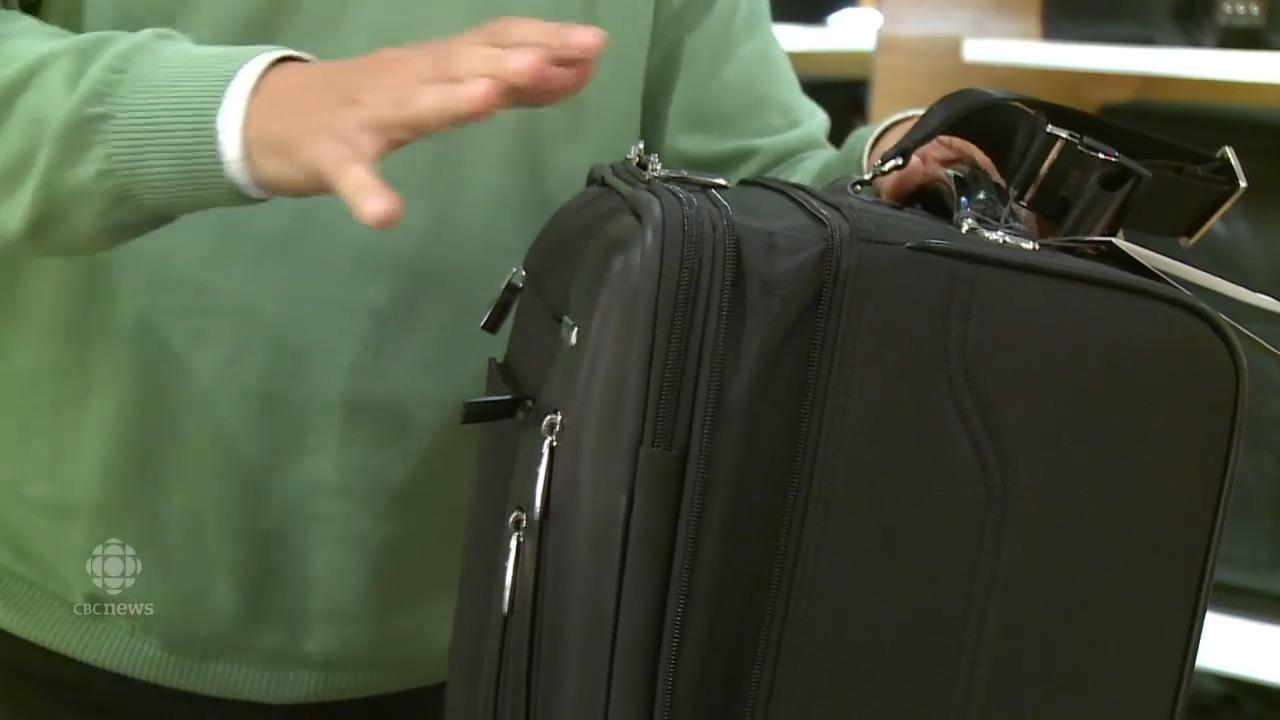luggage: (447, 151, 1246, 720)
